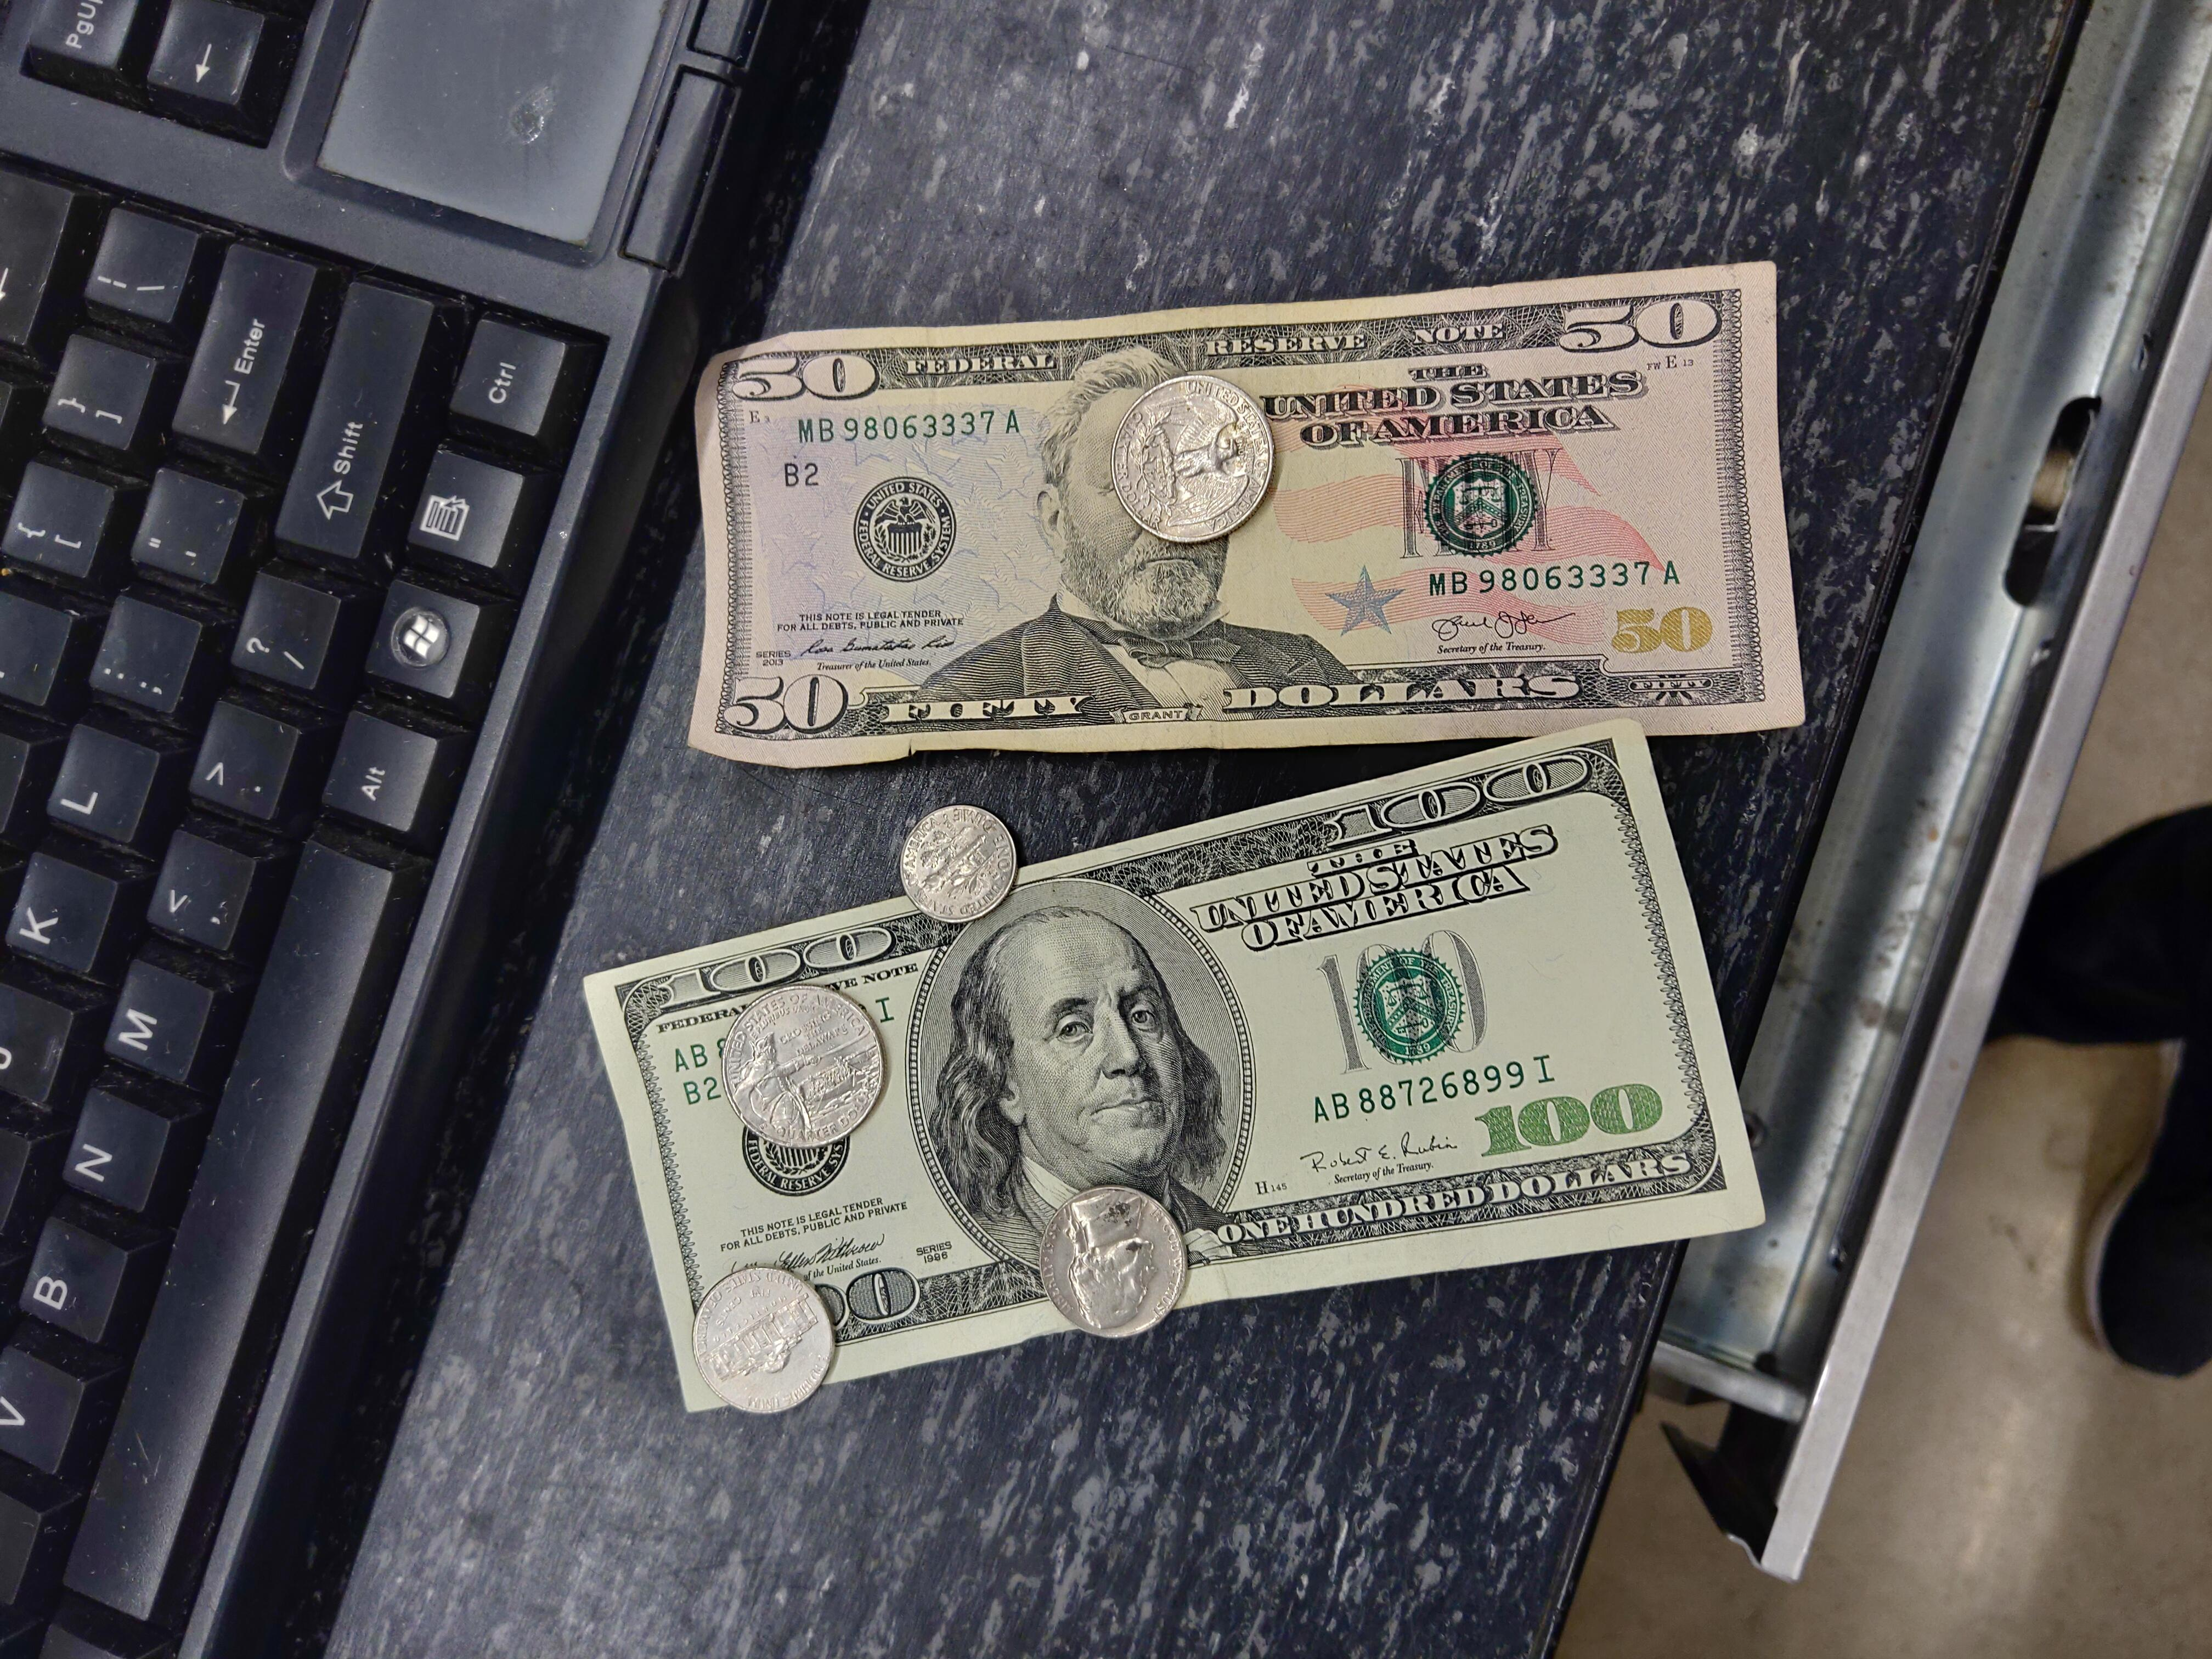Dime: (895, 803, 1019, 924)
FiftyBill: (686, 260, 1815, 769)
HundredBill: (580, 714, 1777, 1415)
Nickel: (1038, 1182, 1186, 1340), (690, 1265, 840, 1417)
Quarter: (1108, 373, 1278, 545), (719, 983, 885, 1152)
